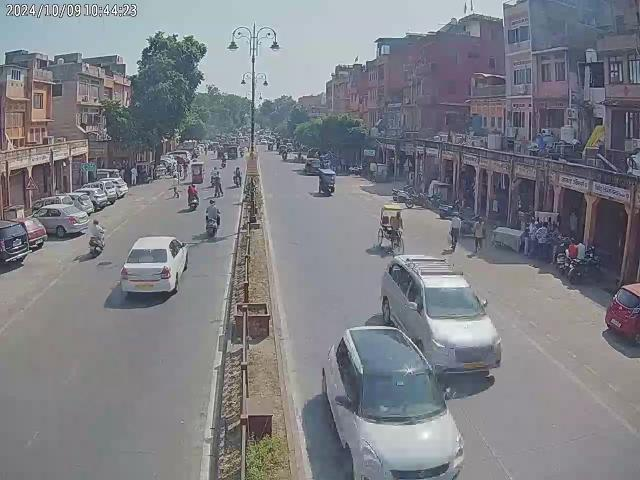auto: (318, 168, 337, 198), (189, 160, 204, 186)
car: (319, 321, 469, 480), (378, 250, 503, 384), (120, 236, 190, 302), (604, 264, 640, 348), (28, 197, 92, 239), (0, 216, 44, 273), (77, 176, 129, 200), (304, 156, 320, 174), (227, 146, 237, 159)
motorbike: (554, 238, 602, 284), (526, 218, 556, 262), (389, 185, 421, 208), (186, 183, 198, 211)
motorbike-rider: (85, 219, 106, 259), (204, 199, 221, 238)
person: (448, 213, 463, 250), (472, 218, 486, 254), (211, 175, 222, 197), (232, 166, 242, 187)
rickshow: (378, 202, 406, 253)
scooty: (437, 194, 470, 219)
